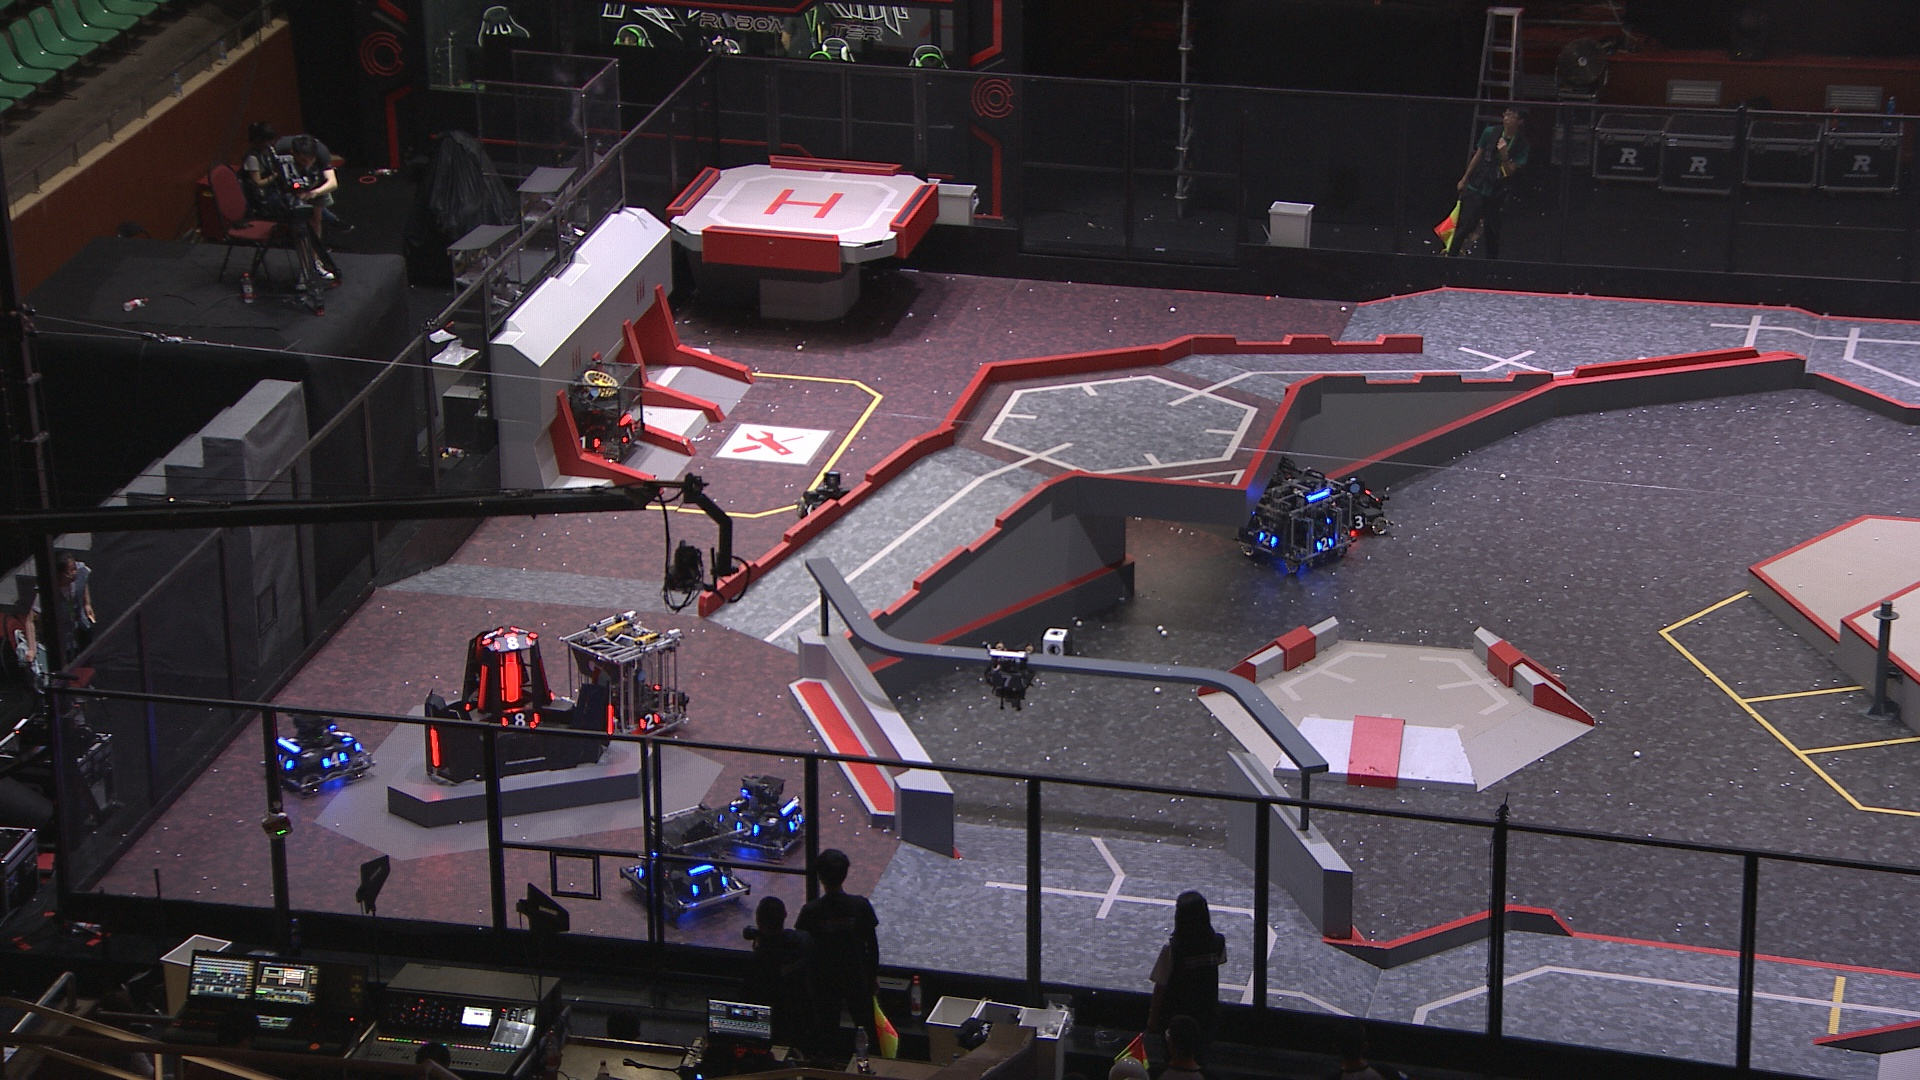armor: (498, 651, 524, 704), (498, 712, 541, 731), (692, 876, 728, 895), (491, 636, 531, 651), (473, 666, 489, 707), (989, 673, 1029, 688), (732, 820, 761, 840), (319, 750, 348, 769), (429, 727, 442, 766), (637, 711, 659, 732), (578, 434, 604, 451), (328, 727, 353, 742), (276, 752, 294, 771), (480, 628, 498, 646), (1258, 531, 1278, 549), (1313, 537, 1335, 553), (785, 815, 807, 829), (1348, 516, 1367, 531), (605, 702, 615, 735), (621, 425, 637, 443), (727, 796, 746, 811), (803, 502, 816, 514)
base: (422, 622, 618, 785)
car: (564, 612, 692, 744), (621, 799, 756, 915), (1237, 452, 1353, 574), (547, 361, 645, 471), (262, 709, 377, 793), (713, 771, 814, 858), (790, 469, 860, 533), (1323, 477, 1393, 535)
watcher: (977, 644, 1038, 713)
